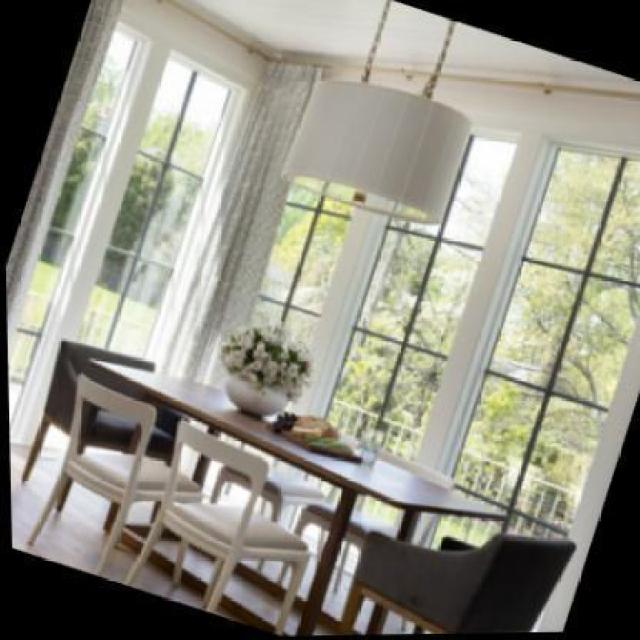tables: (86, 357, 512, 635)
